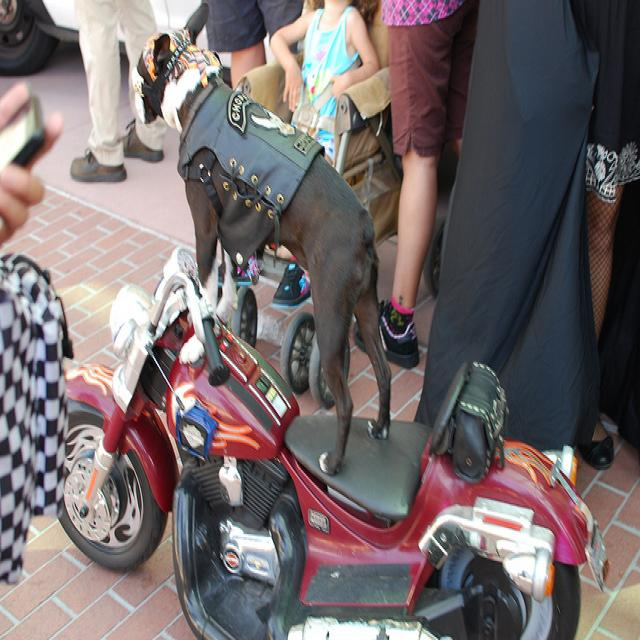motor: (59, 270, 610, 634)
